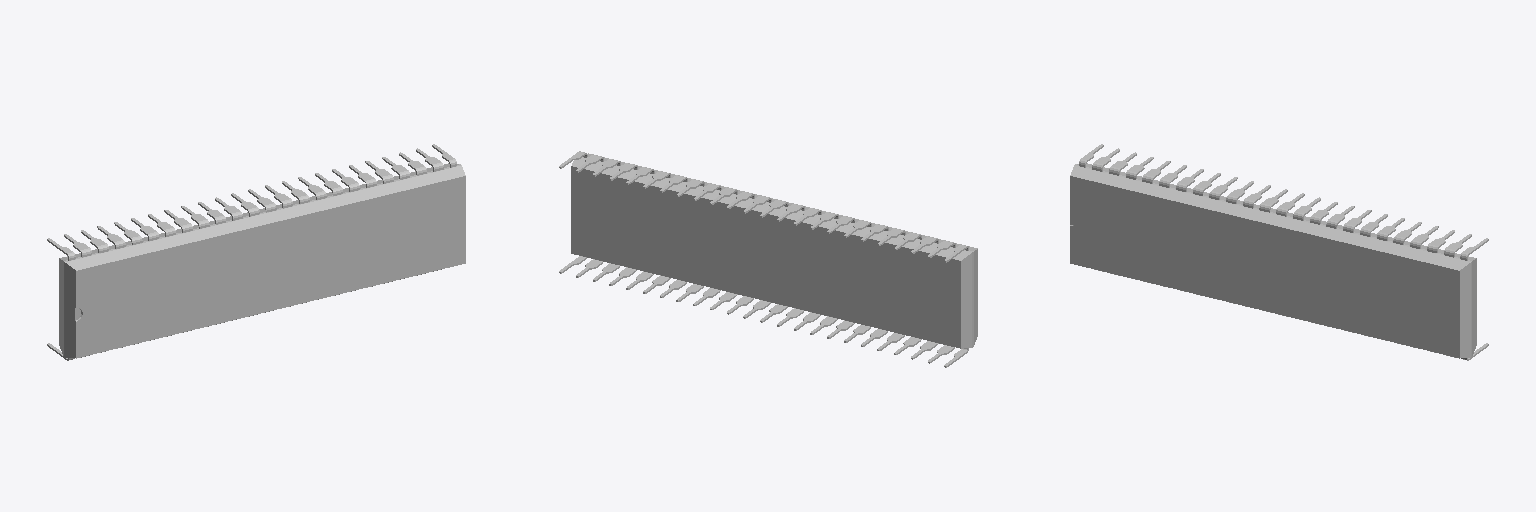
The model's file is DIP-48P-M02.obj.
The picture shows the model from 3 angles: view 1: azimuth 30°, elevation 25°; view 2: azimuth 150°, elevation 25°; view 3: azimuth 330°, elevation 25°; orthographic projection.
Parts seen in each view (by area): view 1: Solid1; view 2: Solid1; view 3: Solid1.
Boxes of the visible parts, x1,y1,x2,y2 form: Solid1: [47, 144, 465, 360]; Solid1: [559, 151, 977, 367]; Solid1: [1070, 144, 1488, 360].
Size of the model in its own units: 60.2 by 15.49 by 8.